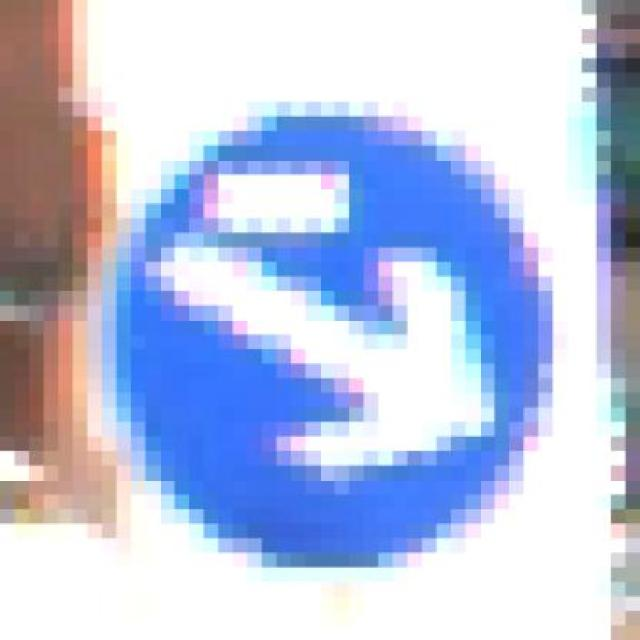Keep-Right: (101, 87, 582, 596)
